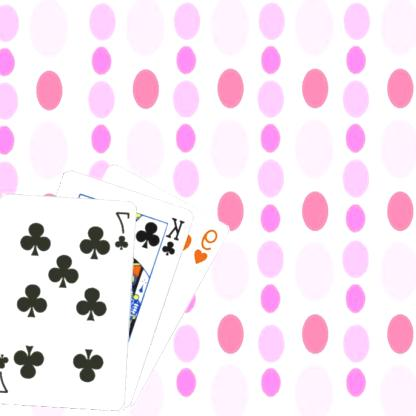7C: (114, 208, 133, 251), (0, 351, 12, 395)
9H: (193, 225, 221, 266)
KC: (155, 214, 188, 258)
